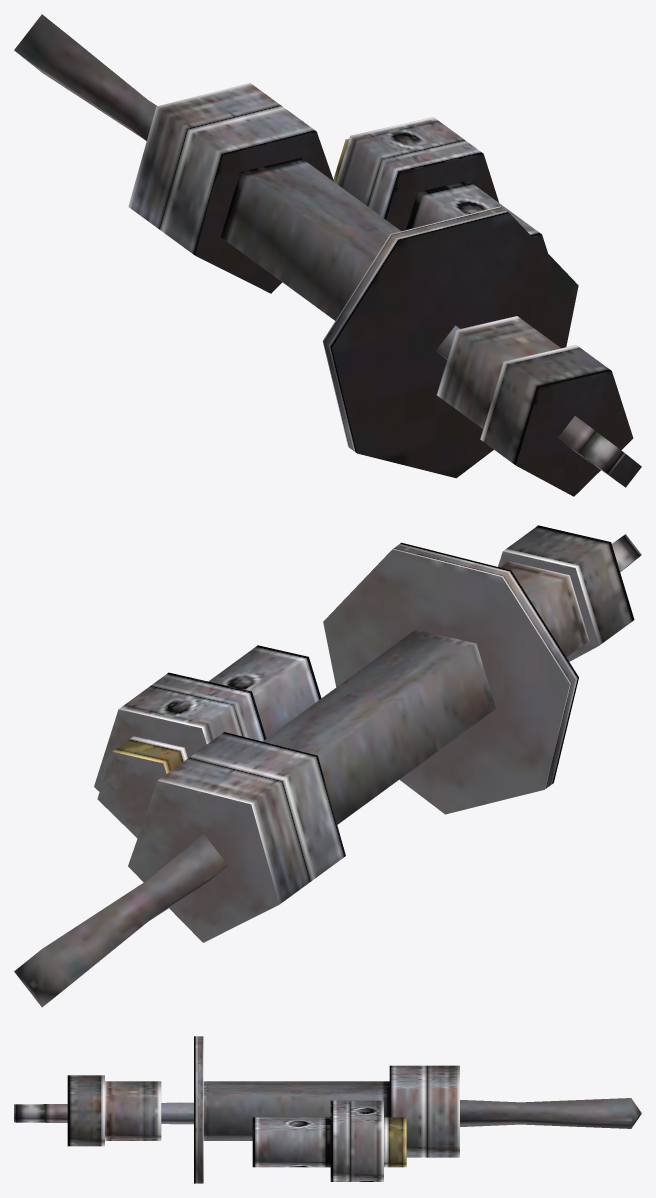
The model's file is eqp_tool_impulse_detector_s3_l0.fbx.
3 views of the same model, one above another, from view 1: azimuth 30°, elevation 25°; view 2: azimuth 150°, elevation 25°; view 3: azimuth 270°, elevation 25° (orthographic). The views are drawn at different scales.
Parts seen in each view (by area): view 1: mesh_node; view 2: mesh_node; view 3: mesh_node.
Part boxes in pixels (x1,y1,x2,y2): mesh_node: (14,14,641,496); mesh_node: (14,525,641,1007); mesh_node: (14,1036,641,1183).
Bounding box in the file's own units: 0.2947 × 0.2325 × 0.9918.
